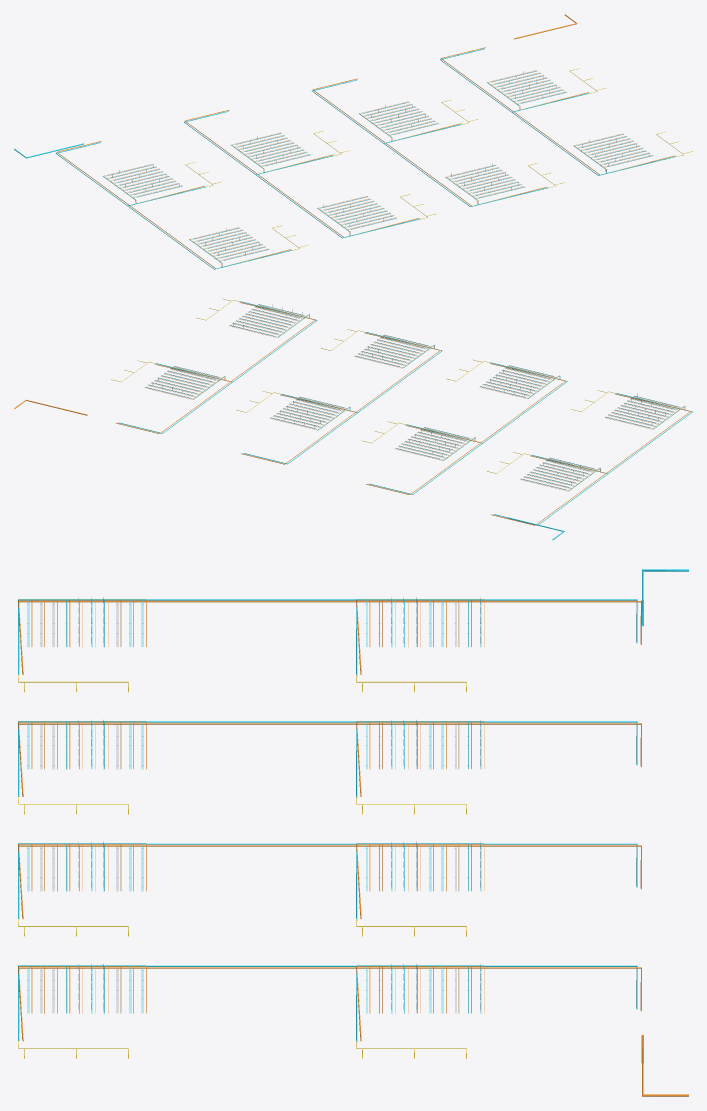
The model's file is power-routes.glb.
3 views of the same model, one above another, from view 1: azimuth 30°, elevation 25°; view 2: azimuth 150°, elevation 25°; view 3: azimuth 270°, elevation 25° (orthographic). The views are drawn at different scales.
Visible parts, largest first — view 1: power-routes_orange, power-routes_cyan, power-routes_metal, power-routes_yellow; view 2: power-routes_orange, power-routes_cyan, power-routes_metal, power-routes_yellow; view 3: power-routes_orange, power-routes_cyan, power-routes_metal, power-routes_yellow.
Part boxes in pixels (left/top/right/bottom): power-routes_orange: left=56, top=14, right=675, bottom=268; power-routes_cyan: left=14, top=48, right=676, bottom=269; power-routes_metal: left=107, top=70, right=653, bottom=260; power-routes_yellow: left=185, top=68, right=692, bottom=250; power-routes_orange: left=14, top=302, right=690, bottom=525; power-routes_cyan: left=118, top=301, right=692, bottom=540; power-routes_metal: left=145, top=304, right=677, bottom=489; power-routes_yellow: left=111, top=298, right=615, bottom=473; power-routes_orange: left=18, top=599, right=688, bottom=1096; power-routes_cyan: left=18, top=569, right=688, bottom=1040; power-routes_metal: left=27, top=597, right=480, bottom=1012; power-routes_yellow: left=18, top=674, right=466, bottom=1058.
Size of the model in its own units: 431 by 5.95 by 232.
